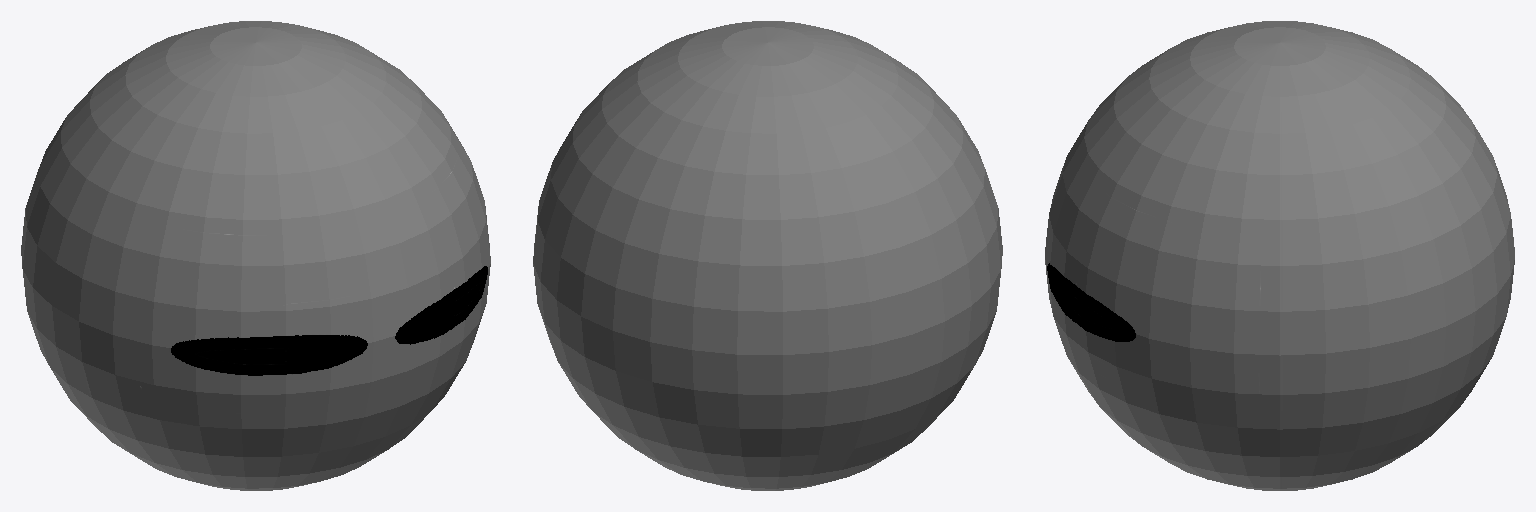
3 views of the same model, side by side, from view 1: azimuth 30°, elevation 25°; view 2: azimuth 150°, elevation 25°; view 3: azimuth 270°, elevation 25° (orthographic).
Parts seen in each view (by area): view 1: 球; view 2: 球; view 3: 球.
Boxes of the visible parts, x1,y1,x2,y2 form: 球: [21, 21, 490, 490]; 球: [533, 21, 1002, 490]; 球: [1045, 21, 1514, 490].
Bounding box in the file's own units: 2 × 2 × 2.
1 materials, 1 textured.